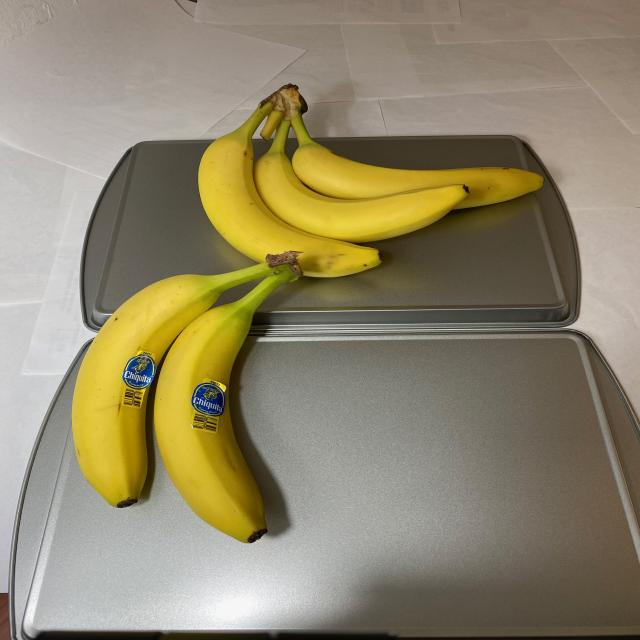Banana: (66, 250, 305, 551), (196, 84, 548, 285)
